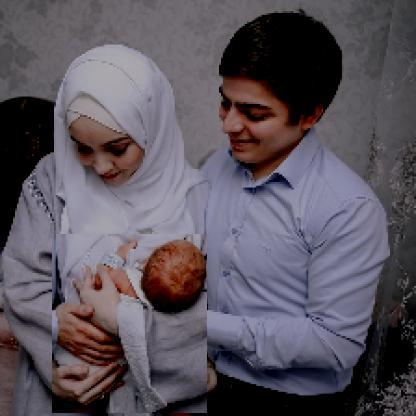child: (53, 235, 209, 415)
